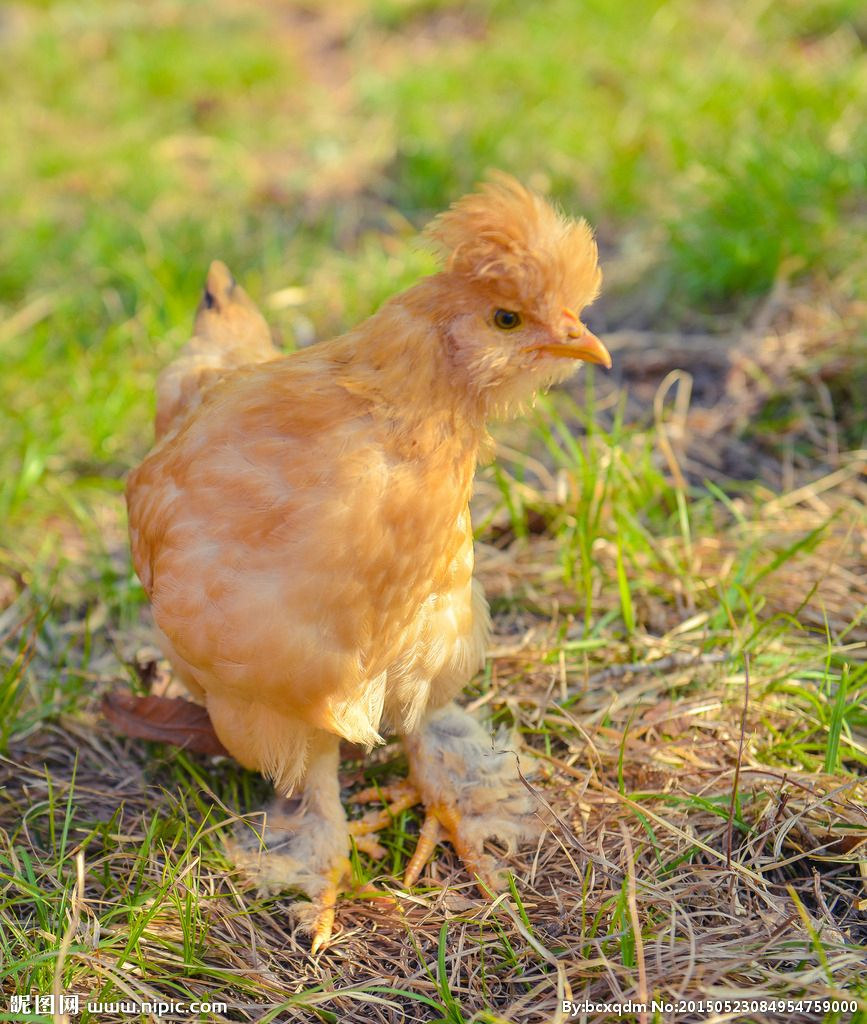chicken: (128, 164, 627, 947)
